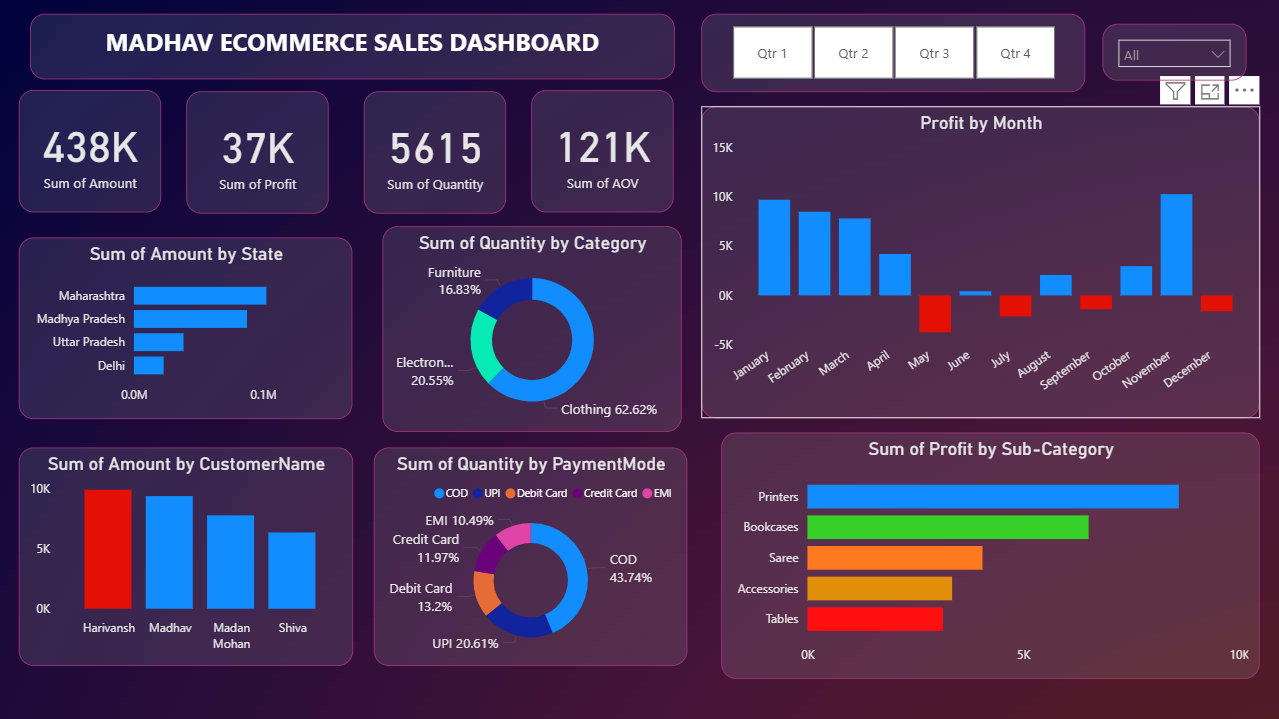

What the dashboard file says about the page in this screenshot:
{"tool":"powerbi","page":{"name":"Page 1","canvas":[1280,720],"ordinal":0},"visuals":[{"type":"textbox","box":[29.6,13.5,644.8,66],"z":0},{"type":"columnChart","title":" Profit by Month","fields":{"Category":["Orders.Order Date.Variation.Date Hierarchy.Month"],"Y":["Sum(Details.Profit)"]},"box":[701.4,106.4,558.7,312.3],"z":1000},{"type":"barChart","fields":{"Category":["Details.Sub-Category"],"Y":["Sum(Details.Profit)"]},"box":[721.6,432.1,538.5,246.4],"z":2000},{"type":"donutChart","fields":{"Category":["Details.Category"],"Y":["Sum(Details.Quantity)"]},"box":[382.3,226.2,298.9,206],"z":3000},{"type":"donutChart","fields":{"Category":["Details.PaymentMode"],"Y":["Sum(Details.Quantity)"]},"box":[374.3,447,313.7,218.1],"z":4000},{"type":"card","fields":{"Values":["Sum(Details.Amount)"]},"box":[18.8,90.2,142.7,122.5],"z":5000},{"type":"card","fields":{"Values":["Sum(Details.Quantity)"]},"box":[363.5,91.5,142.7,122.5],"z":6000},{"type":"card","fields":{"Values":["Sum(Details.Profit)"]},"box":[185.8,91.5,142.7,122.5],"z":7000},{"type":"card","fields":{"Values":["Sum(Details.AOV)"]},"box":[531.8,90.2,142.7,122.5],"z":8000},{"type":"barChart","fields":{"Category":["Orders.State"],"Y":["Sum(Details.Amount)"]},"box":[18.8,236.9,333.9,181.7],"z":9000},{"type":"columnChart","fields":{"Category":["Orders.CustomerName"],"Y":["Sum(Details.Amount)"]},"box":[19,447,334,218],"z":10000},{"type":"slicer","fields":{"Values":["Orders.Order Date.Variation.Date Hierarchy.Quarter"]},"box":[701.4,13.5,383.7,78.1],"z":11000},{"type":"slicer","fields":{"Values":["Orders.State"]},"box":[1102.6,24.2,144,56.5],"z":12000}]}

Visuals, with their boxes in screenshot pixels (x1, y1, x2, y2), scaled from the page's 1280x720 canvas onto the 1279x719 screenshot:
textbox: <box>30,13,674,79</box>
" Profit by Month" columnChart: <box>701,106,1259,418</box>
barChart - Details.Sub-Category x Sum(Details.Profit): <box>721,431,1259,678</box>
donutChart - Details.Category x Sum(Details.Quantity): <box>382,226,681,432</box>
donutChart - Details.PaymentMode x Sum(Details.Quantity): <box>374,446,687,664</box>
card - Sum(Details.Amount): <box>19,90,161,212</box>
card - Sum(Details.Quantity): <box>363,91,506,214</box>
card - Sum(Details.Profit): <box>186,91,328,214</box>
card - Sum(Details.AOV): <box>531,90,674,212</box>
barChart - Orders.State x Sum(Details.Amount): <box>19,237,352,418</box>
columnChart - Orders.CustomerName x Sum(Details.Amount): <box>19,446,353,664</box>
slicer - Orders.Order Date.Variation.Date Hierarchy.Quarter: <box>701,13,1084,91</box>
slicer - Orders.State: <box>1102,24,1246,81</box>
